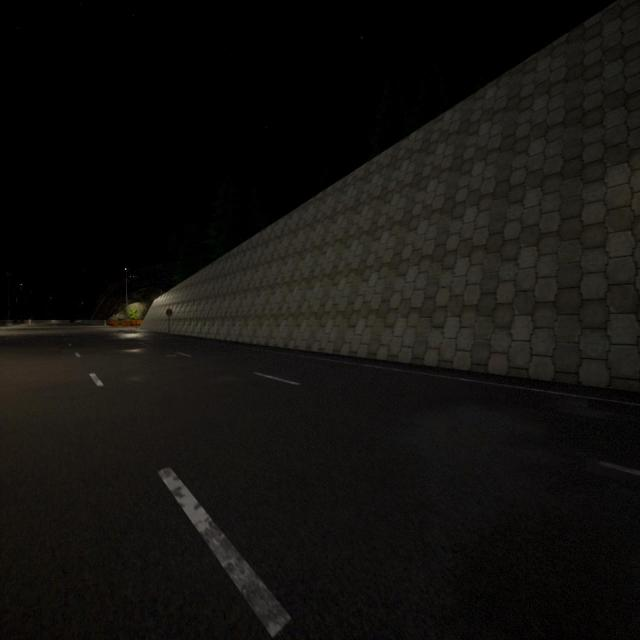Traffic_Signs: (164, 306, 173, 318)
